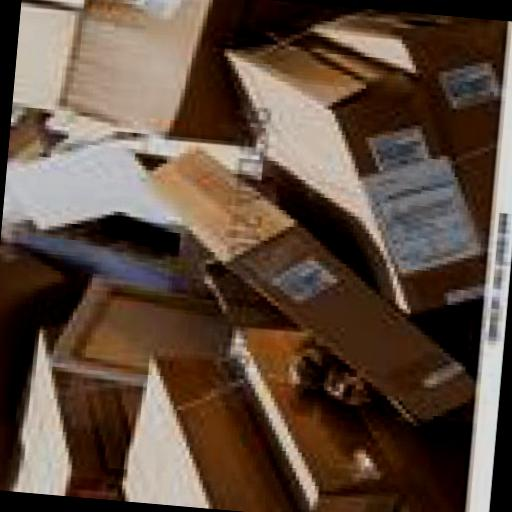cardboard: (0, 0, 505, 512), (115, 141, 488, 427), (192, 23, 499, 319), (264, 2, 502, 240), (12, 0, 322, 149), (210, 321, 414, 512), (110, 349, 307, 512), (40, 270, 241, 394), (6, 320, 142, 497), (4, 115, 190, 235), (0, 237, 77, 493), (342, 389, 468, 512), (1, 218, 165, 288)
